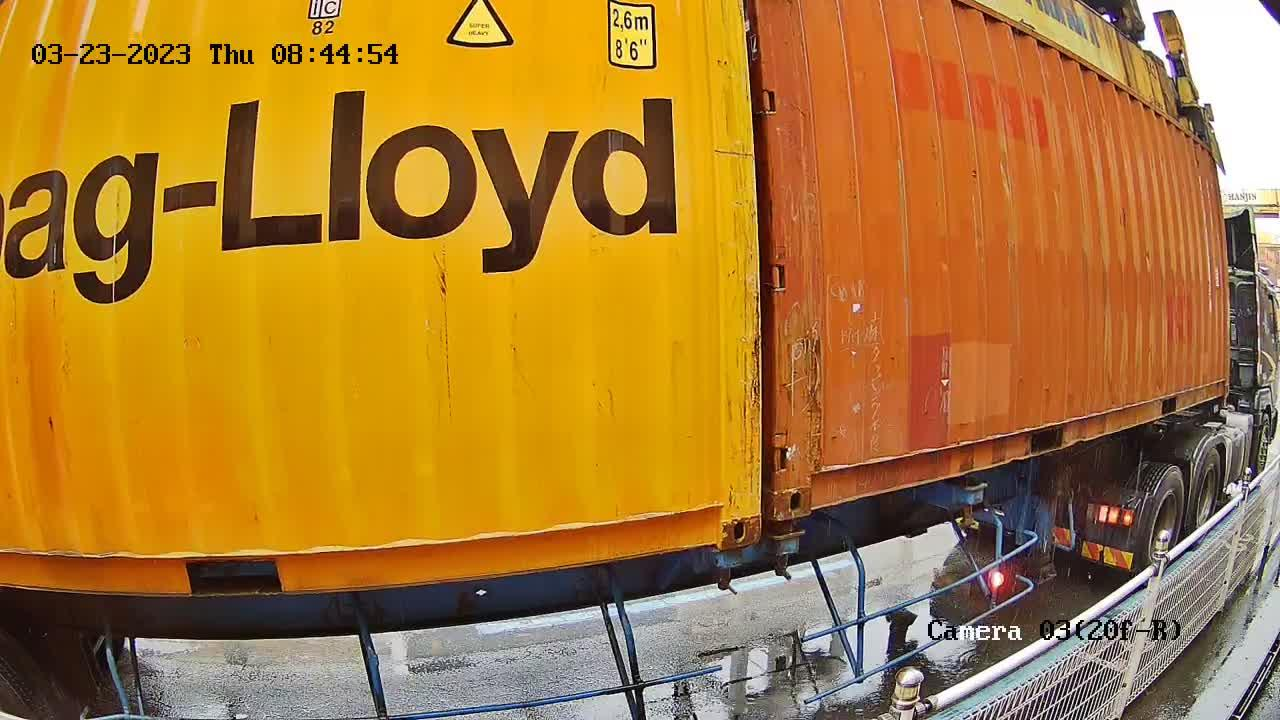Cone: (702, 545, 749, 593), (770, 520, 805, 581)
Hole_L: (773, 443, 836, 520)
Hole_R: (679, 470, 762, 549)
Tire: (1139, 468, 1184, 571), (1188, 451, 1222, 549)
